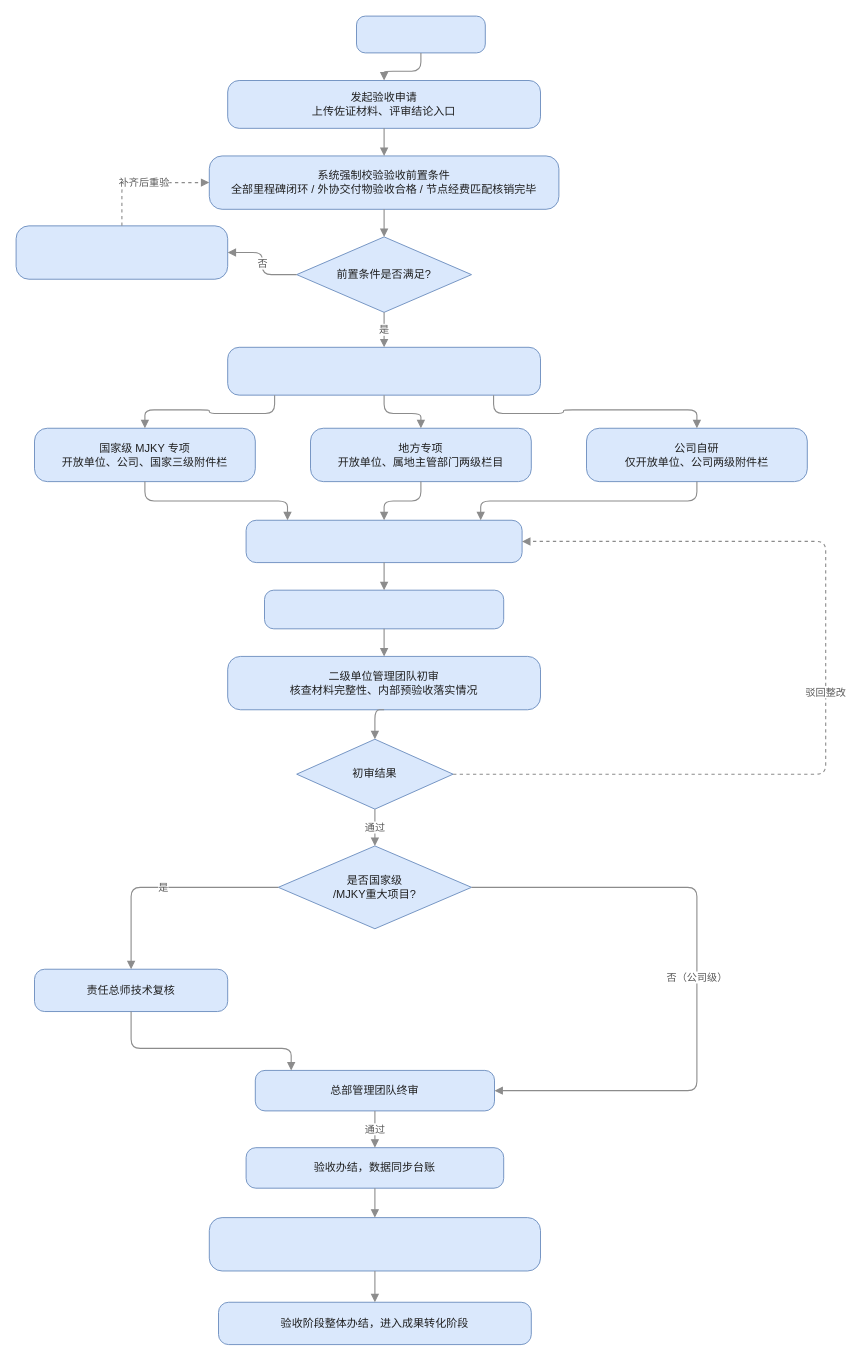
The diagram is 862 pixels wide and 1361 high, and some of its shapes have lost their labels. The shapes that lost their labels are listed below. From the top down, each one's box as (x1, y1, x2, y2) in pixels, then its label:
(356, 15, 485, 53): 验收阶段
(15, 225, 228, 279): 无法提交验收申请 需补齐里程碑/外协交付物/经费核销
(227, 346, 540, 395): 根据项目来源自动匹配验收表单层级 非对应层级页面锁定不可编辑
(245, 519, 522, 563): 按项目渠道成套上传验收材料
(264, 589, 504, 629): 项目团队提交验收申请
(208, 1217, 540, 1271): 系统开启 30 天倒计时，提醒开展参研单位评价 外协单位评价计时起点为外协合同验收完成时间
